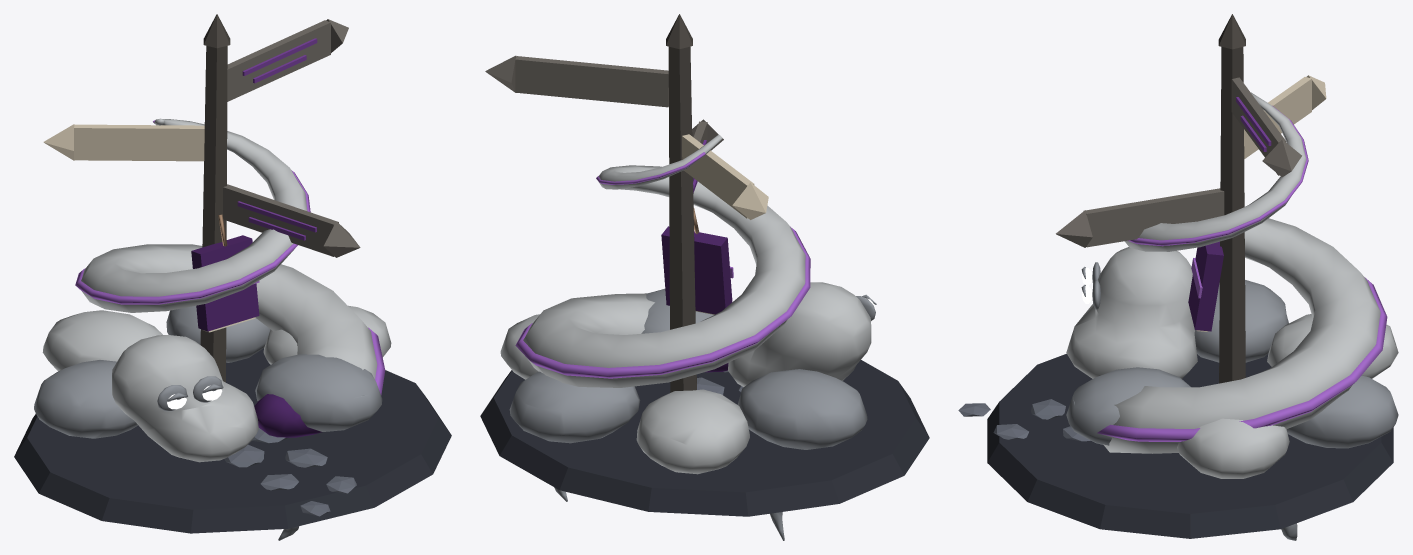
The model's file is fog-lost-road.glb.
3 renders of one model, left to right at view 1: azimuth 30°, elevation 25°; view 2: azimuth 150°, elevation 25°; view 3: azimuth 270°, elevation 25°, orthographic. The views are drawn at different scales.
Visible parts, largest first — view 1: fog_lost_road, pulse_fog, sway_curl_b, sway_ledger; view 2: fog_lost_road, pulse_fog, sway_curl_b, sway_ledger; view 3: fog_lost_road, pulse_fog, sway_curl_b, sway_ledger.
Boxes of the visible parts, x1,y1,x2,y2 form: fog_lost_road: [14, 14, 451, 533]; pulse_fog: [34, 305, 391, 462]; sway_curl_b: [75, 118, 385, 395]; sway_ledger: [191, 214, 259, 332]; fog_lost_road: [480, 14, 929, 516]; pulse_fog: [500, 282, 876, 474]; sway_curl_b: [515, 134, 810, 387]; sway_ledger: [661, 208, 733, 314]; fog_lost_road: [958, 14, 1393, 538]; pulse_fog: [1066, 247, 1398, 478]; sway_curl_b: [1097, 92, 1387, 453]; sway_ledger: [1188, 241, 1223, 331].
Size of the model in its own units: 0.88 by 1.05 by 0.8367.
